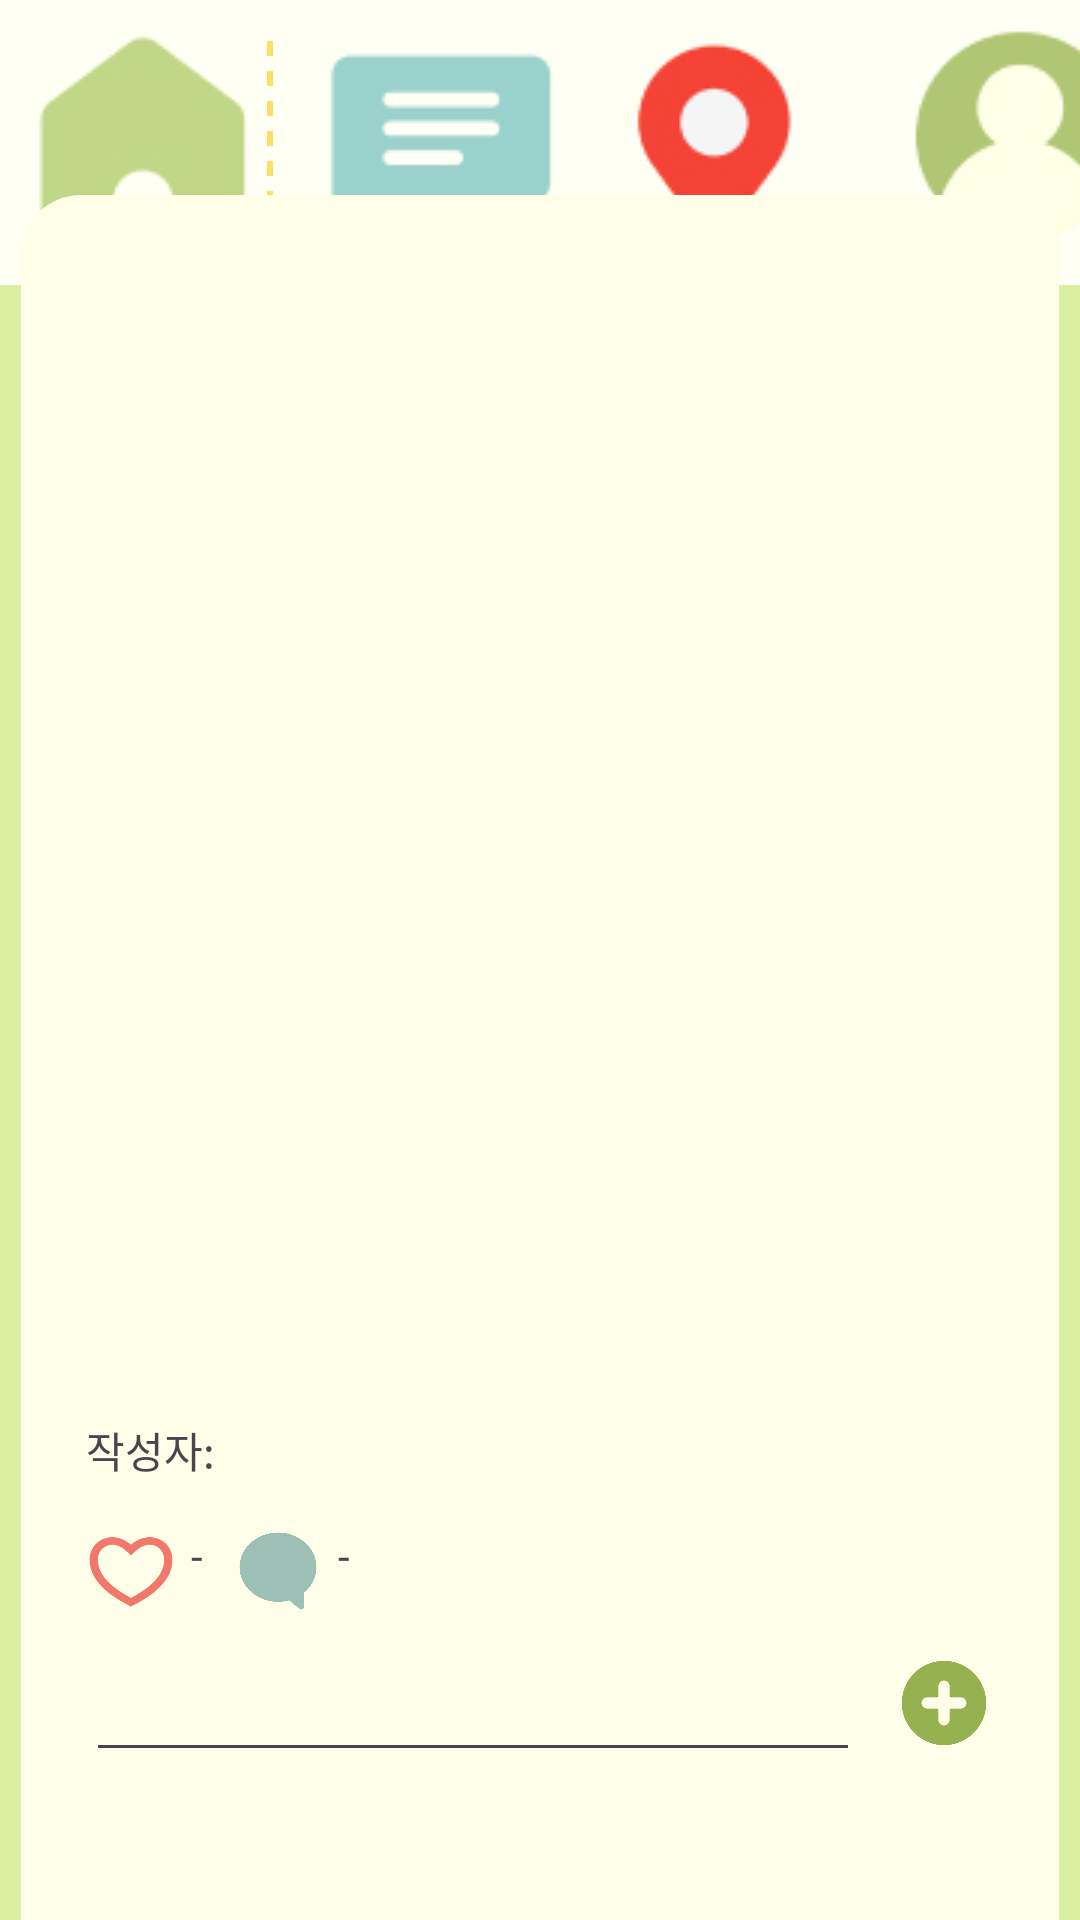

Locate icon controls on the screen. Image size 1080 × 1920, boxes as (x1, y1, x2, y2).
chat: (331, 54, 551, 195)
comment: (239, 1532, 317, 1610)
home: (40, 37, 245, 211)
location: (637, 43, 792, 195)
